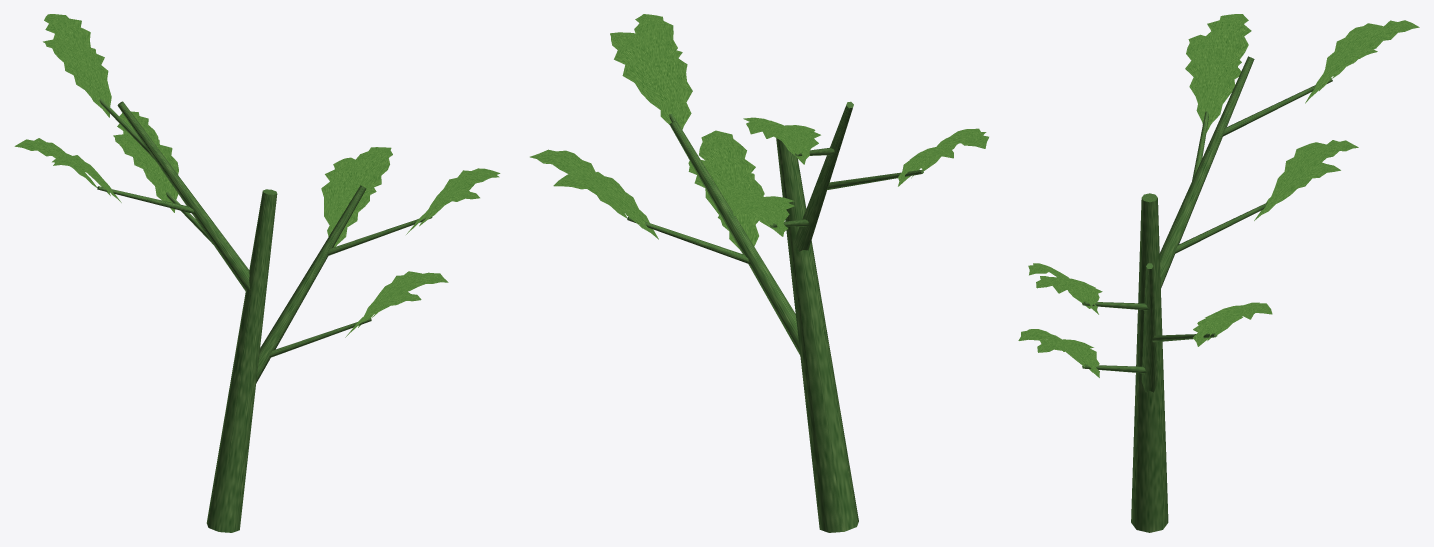
The model's file is PZ_Crop_Tomato_Sprout.glb.
3 views of the same model, side by side, from view 1: azimuth 30°, elevation 25°; view 2: azimuth 150°, elevation 25°; view 3: azimuth 270°, elevation 25° (orthographic). The views are drawn at different scales.
Visible parts, largest first — view 1: PZ_Crop_Tomato_Sprout_01_Tomato_Branches, PZ_Crop_Tomato_Sprout_03_Serrated_Compound_Leaves, PZ_Crop_Tomato_Sprout_02_Petioles; view 2: PZ_Crop_Tomato_Sprout_03_Serrated_Compound_Leaves, PZ_Crop_Tomato_Sprout_01_Tomato_Branches, PZ_Crop_Tomato_Sprout_02_Petioles; view 3: PZ_Crop_Tomato_Sprout_03_Serrated_Compound_Leaves, PZ_Crop_Tomato_Sprout_01_Tomato_Branches, PZ_Crop_Tomato_Sprout_02_Petioles.
Part boxes in pixels (x1,y1,x2,y2): PZ_Crop_Tomato_Sprout_01_Tomato_Branches: (117, 101, 366, 532); PZ_Crop_Tomato_Sprout_03_Serrated_Compound_Leaves: (14, 14, 500, 337); PZ_Crop_Tomato_Sprout_02_Petioles: (97, 99, 432, 357); PZ_Crop_Tomato_Sprout_03_Serrated_Compound_Leaves: (530, 14, 988, 250); PZ_Crop_Tomato_Sprout_01_Tomato_Branches: (669, 101, 858, 532); PZ_Crop_Tomato_Sprout_02_Petioles: (627, 113, 923, 264); PZ_Crop_Tomato_Sprout_03_Serrated_Compound_Leaves: (1018, 14, 1419, 377); PZ_Crop_Tomato_Sprout_01_Tomato_Branches: (1131, 56, 1254, 532); PZ_Crop_Tomato_Sprout_02_Petioles: (1082, 78, 1332, 373).
Bounding box in the file's own units: 0.2145 × 0.2244 × 0.1717.
2 materials, 2 textured.
